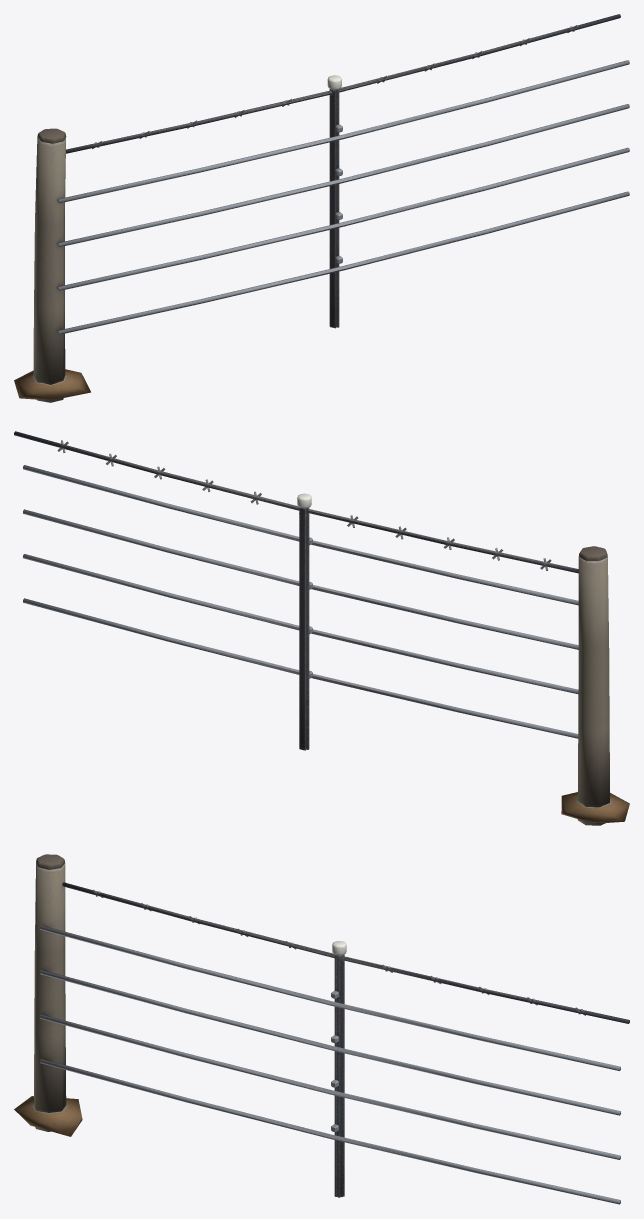
File: fence_wire.glb
The picture shows the model from 3 angles, top to bottom: view 1: azimuth 30°, elevation 25°; view 2: azimuth 150°, elevation 25°; view 3: azimuth 330°, elevation 25°; orthographic projection.
Visible parts, largest first — view 1: fence_wire; view 2: fence_wire; view 3: fence_wire.
Part boxes in pixels (box(x1,y1,x2,y2)): fence_wire: box(14, 14, 629, 402); fence_wire: box(14, 431, 629, 825); fence_wire: box(14, 854, 629, 1204).
Bounding box in the file's own units: 3.16 × 1.34 × 0.3067.
Materials: 1 (1 with a texture image).
